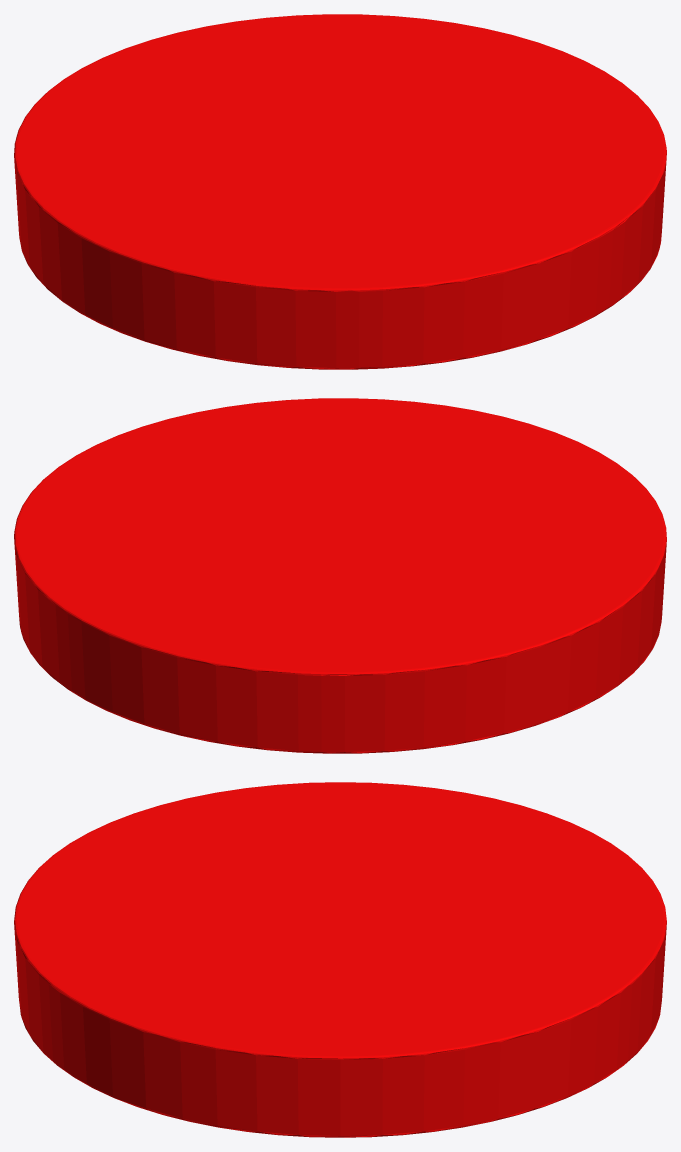
The picture shows the model from 3 angles, top to bottom: view 1: azimuth 30°, elevation 25°; view 2: azimuth 150°, elevation 25°; view 3: azimuth 270°, elevation 25°; orthographic projection.
Parts seen in each view (by area): view 1: A0509_3_0; view 2: A0509_3_0; view 3: A0509_3_0.
Boxes of the visible parts, x1=… form: A0509_3_0: x1=14, y1=14, x2=666, y2=369; A0509_3_0: x1=14, y1=398, x2=666, y2=753; A0509_3_0: x1=14, y1=782, x2=666, y2=1137.
Bounding box in the file's own units: 117 × 117 × 16.5.
